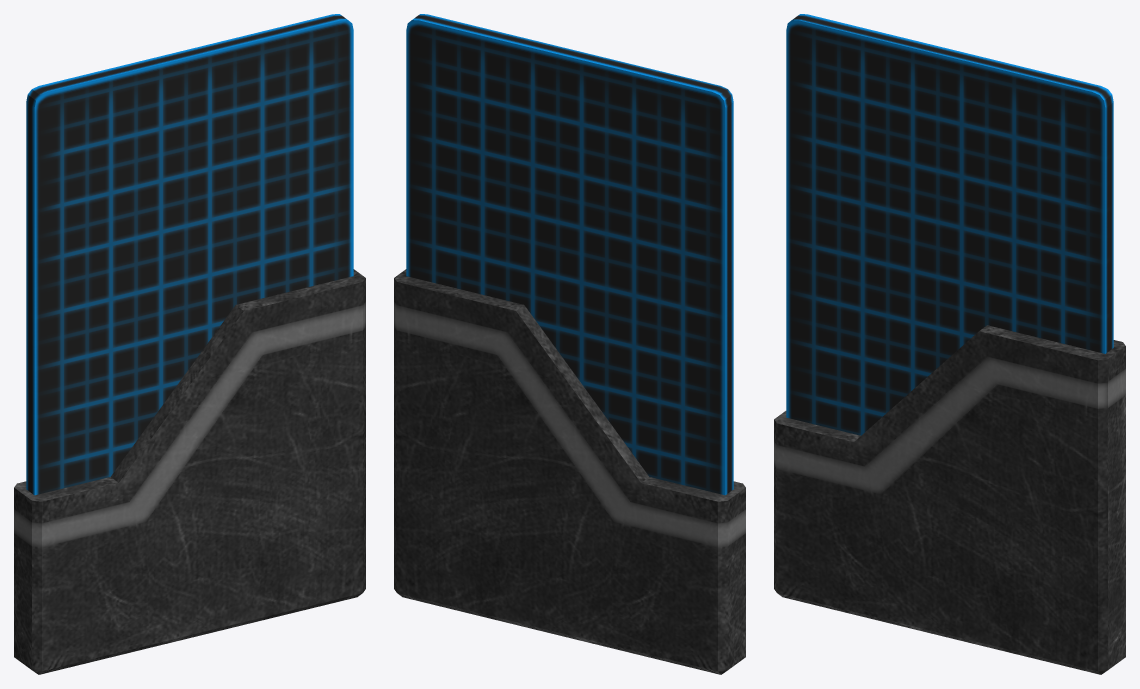
The model's file is Card01.FBX.
3 renders of one model, left to right at view 1: azimuth 30°, elevation 25°; view 2: azimuth 150°, elevation 25°; view 3: azimuth 330°, elevation 25°, orthographic.
Parts seen in each view (by area): view 1: Card01; view 2: Card01; view 3: Card01.
Part boxes in pixels (x1,y1,x2,y2): Card01: (14,14,365,674); Card01: (394,14,745,674); Card01: (774,14,1125,674).
Size of the model in its own units: 17.29 by 28.56 by 2.23.
